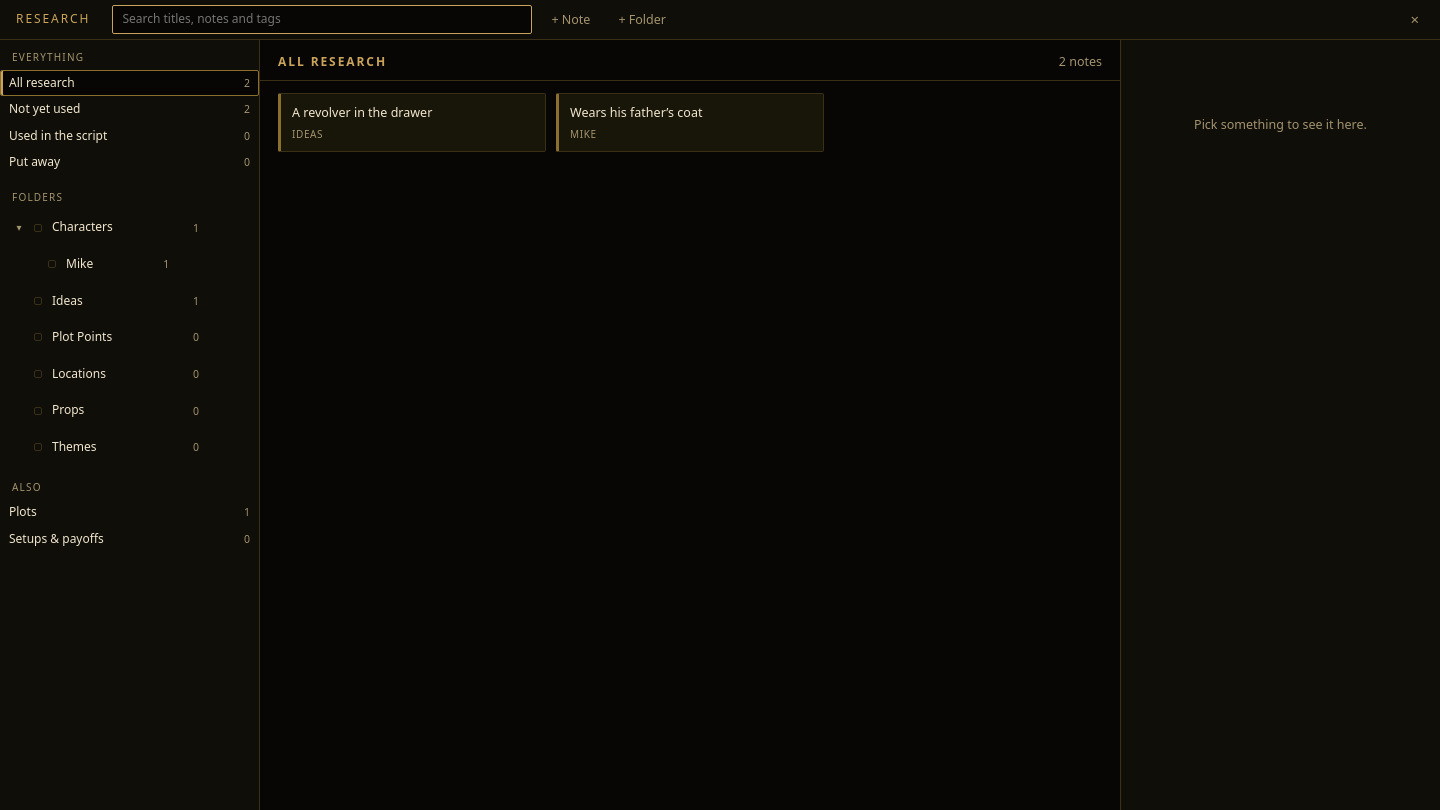
the research window › searches across everything, whatever folder it is in
Type "coat" into the search field named "Search research" at (322, 20), box [112,5,532,34]
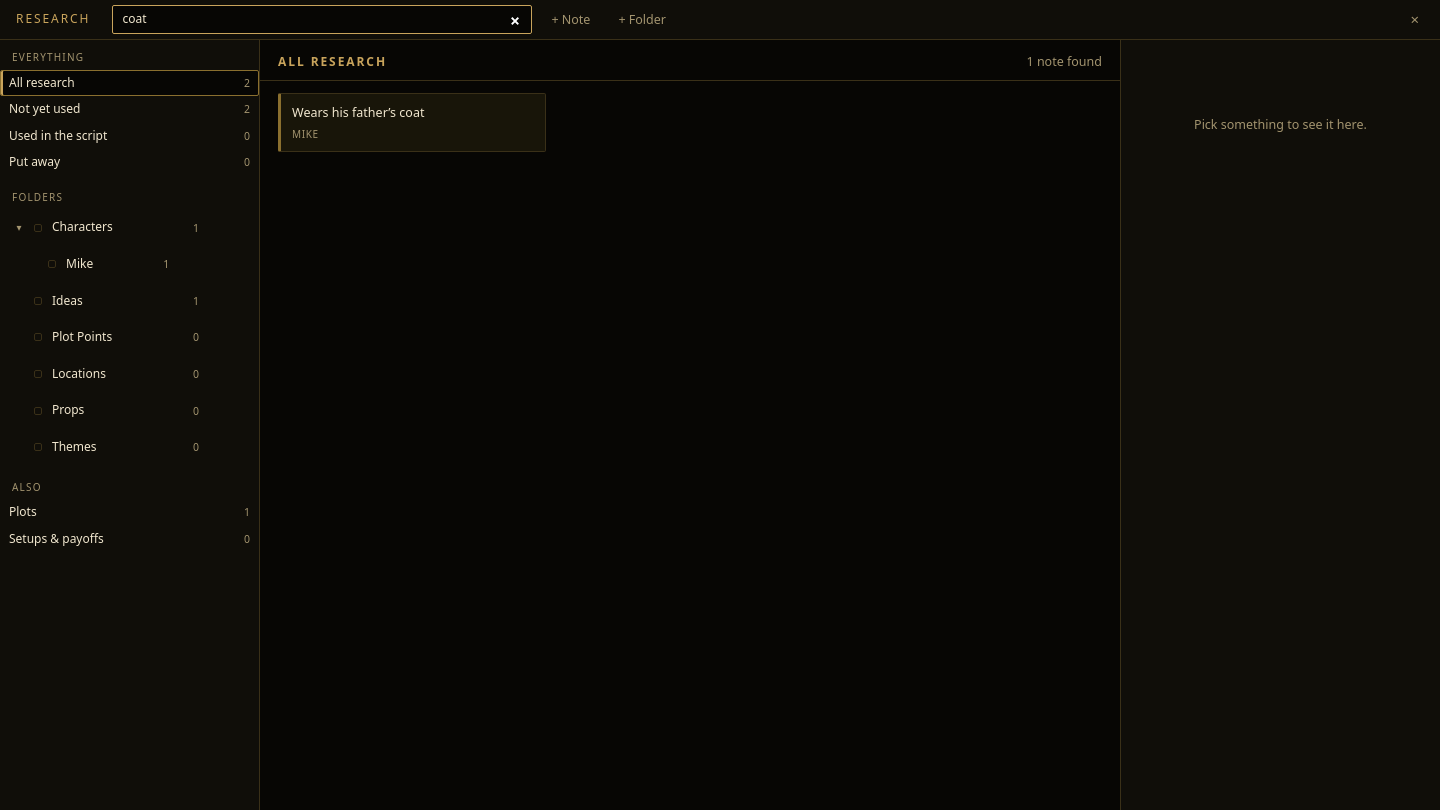
expect the text "Wears his father’s coat" is shown: met, box [292,103,424,122]
expect the button "A revolver in the drawer" is gone: met
